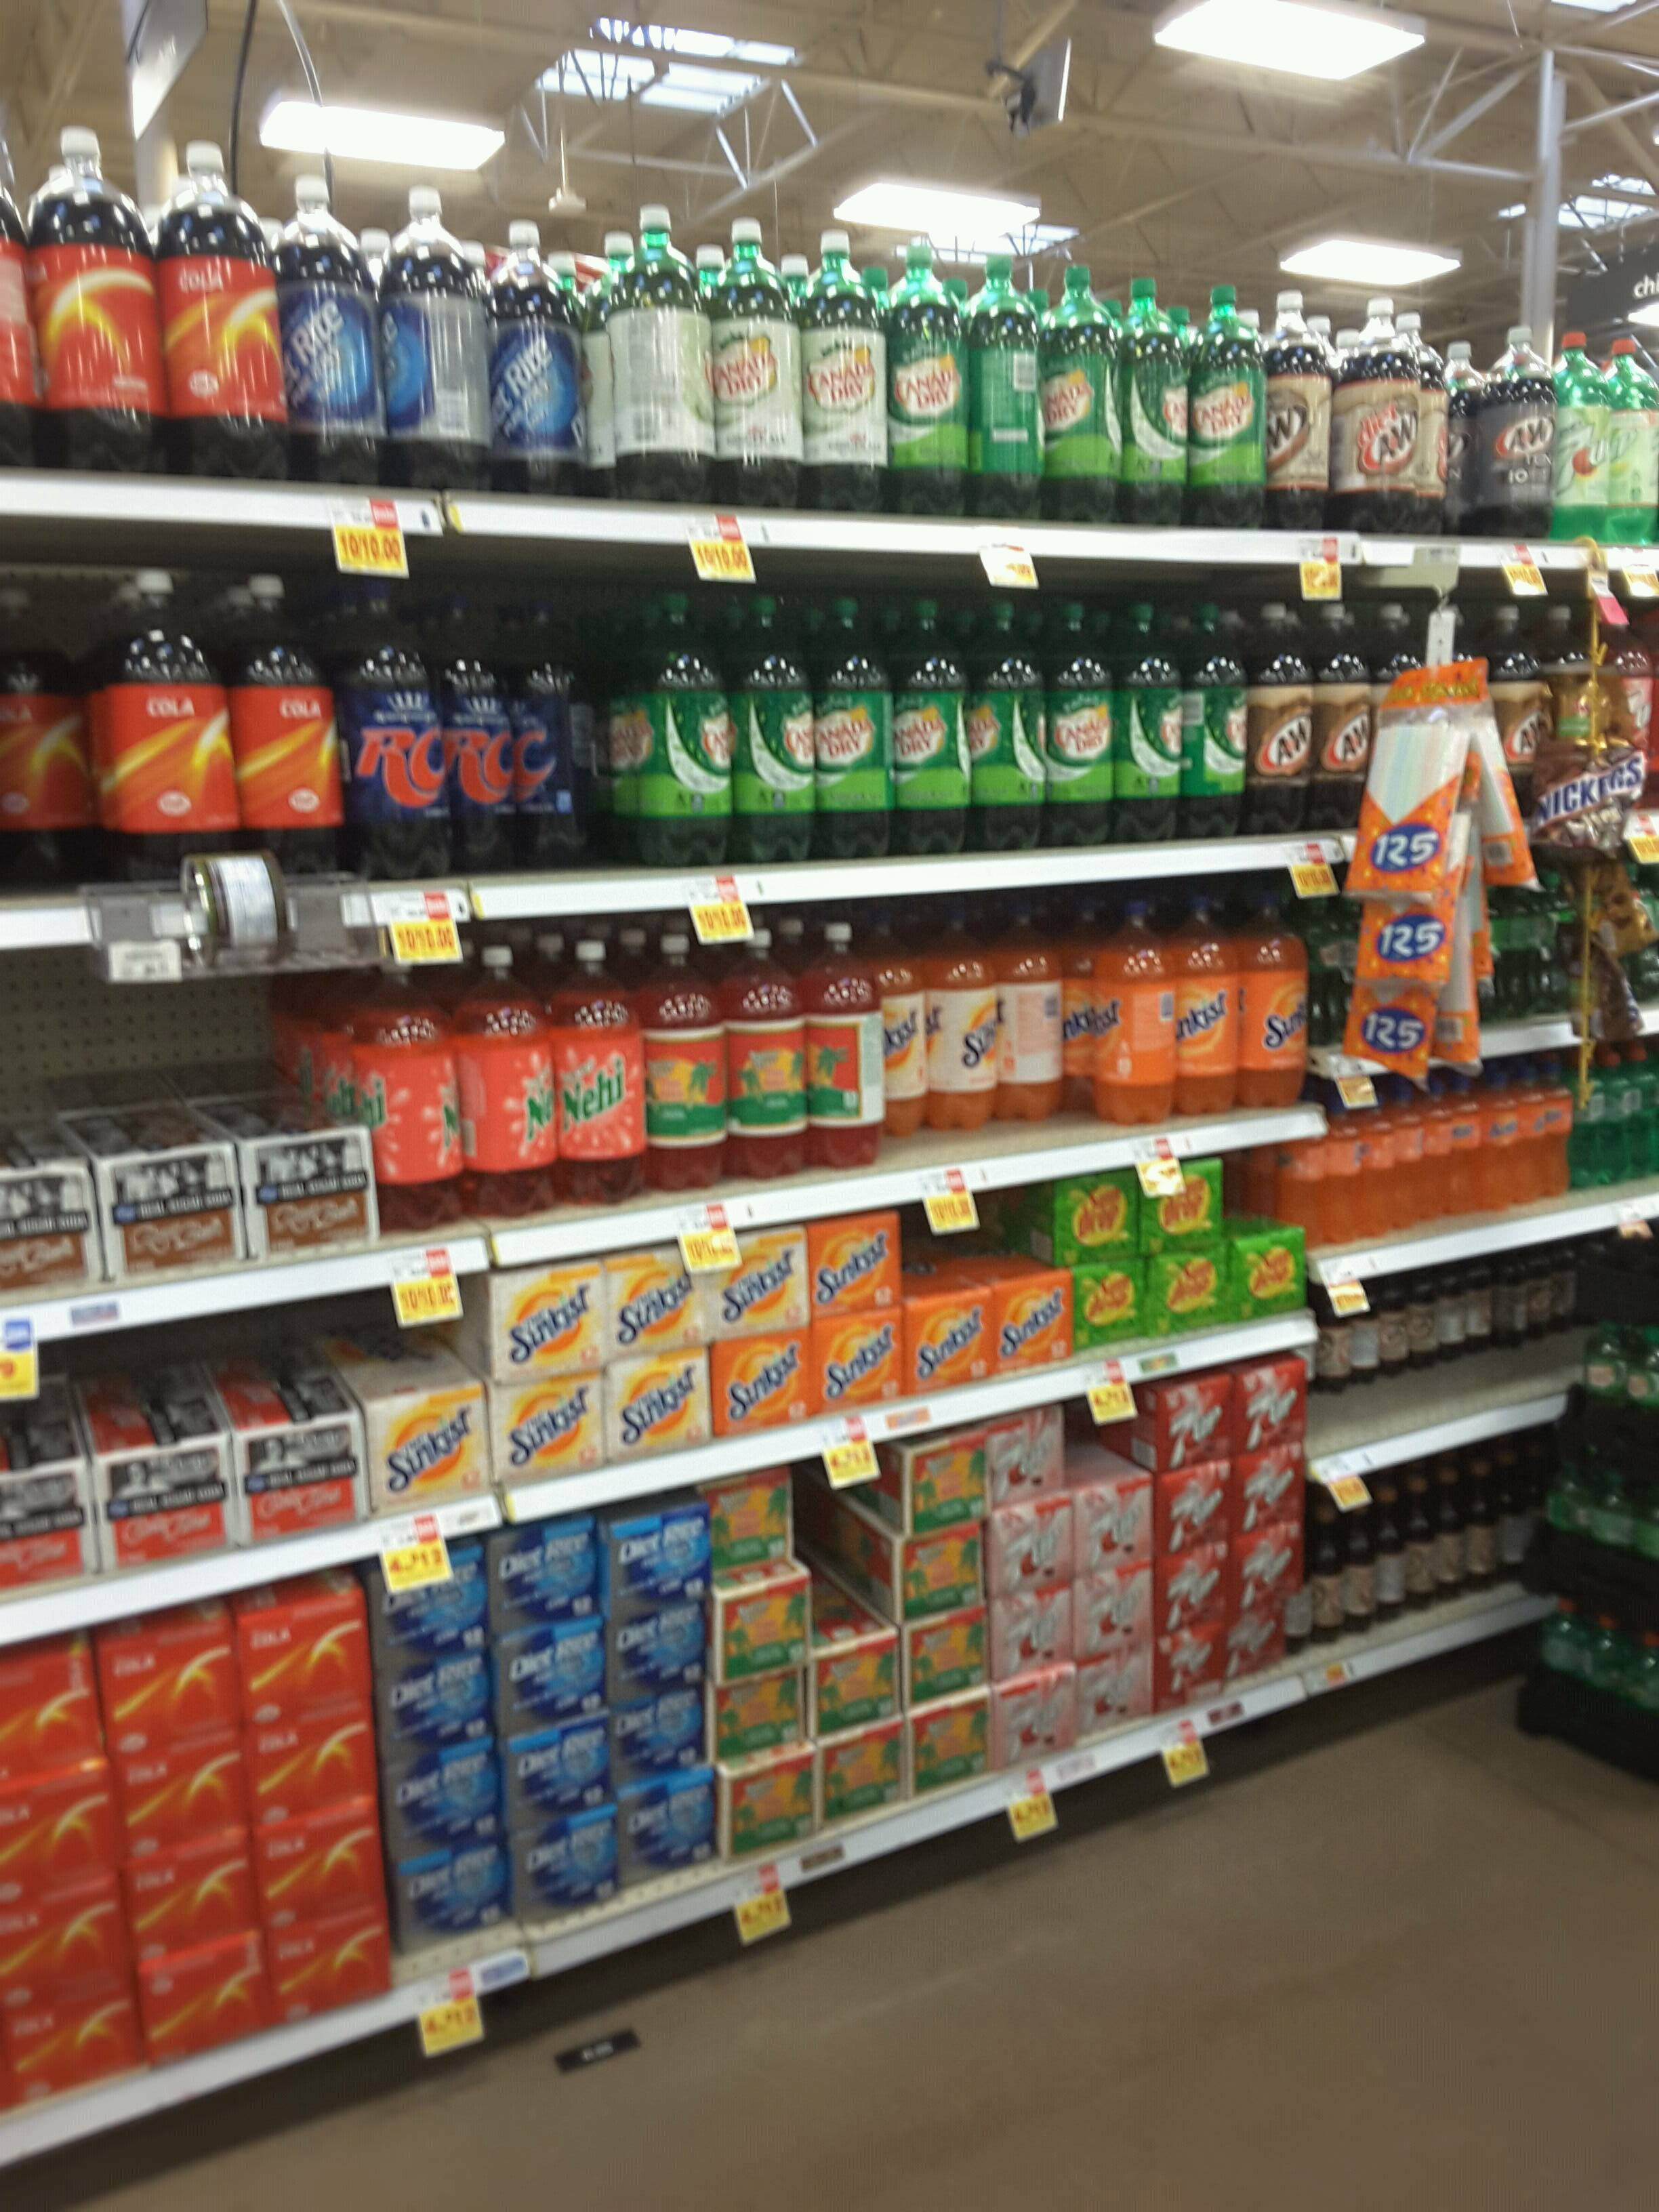Misplacement: (347, 550, 638, 932), (877, 897, 1107, 1170), (812, 1435, 910, 1864), (1321, 1277, 1565, 1437), (903, 1191, 1068, 1411), (361, 1285, 490, 1527)
